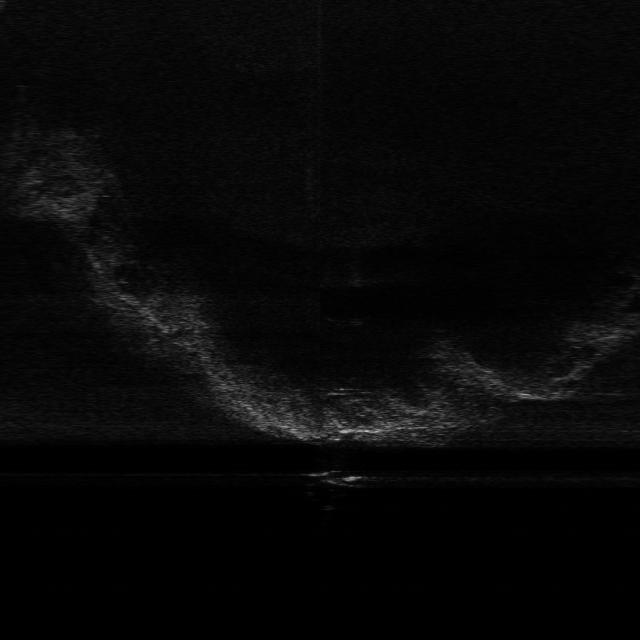plane: (299, 468, 382, 491)
